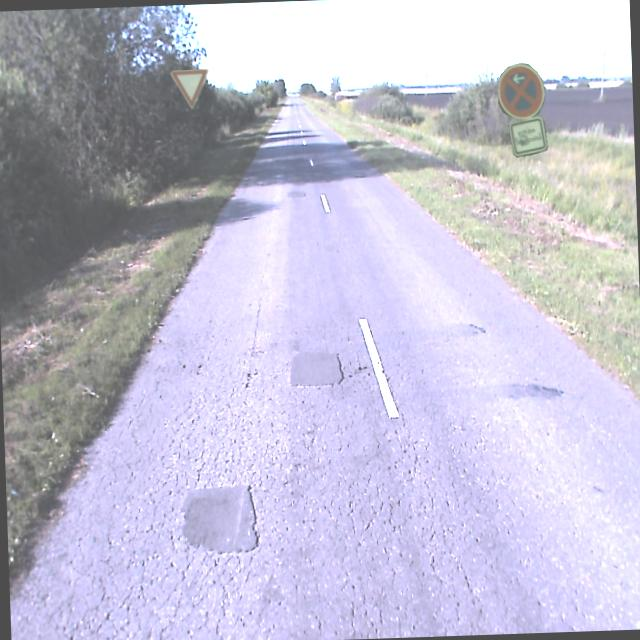road: (9, 97, 640, 640)
